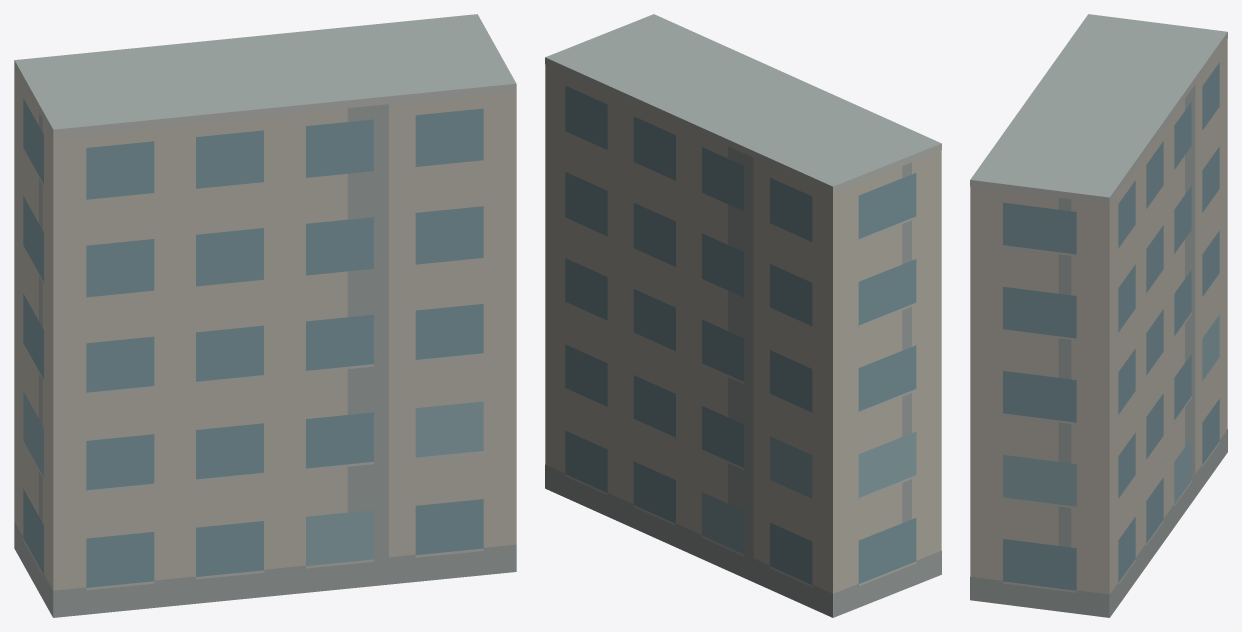
The model's file is residential-16a33414-e87a-4f2e-912e-096ccbff5d6f.glb.
The picture shows the model from 3 angles, left to right: view 1: azimuth 30°, elevation 25°; view 2: azimuth 150°, elevation 25°; view 3: azimuth 270°, elevation 25°; orthographic projection. The views are drawn at different scales.
Parts seen in each view (by area): view 1: residential-16a33414-e87a-4f2e-912e-096ccbff5d6f.tmp; view 2: residential-16a33414-e87a-4f2e-912e-096ccbff5d6f.tmp; view 3: residential-16a33414-e87a-4f2e-912e-096ccbff5d6f.tmp.
Boxes of the visible parts, x1,y1,x2,y2 form: residential-16a33414-e87a-4f2e-912e-096ccbff5d6f.tmp: (14,14,516,617); residential-16a33414-e87a-4f2e-912e-096ccbff5d6f.tmp: (545,14,941,617); residential-16a33414-e87a-4f2e-912e-096ccbff5d6f.tmp: (970,14,1227,617).
Size of the model in its own units: 14.29 by 15.25 by 8.48.
